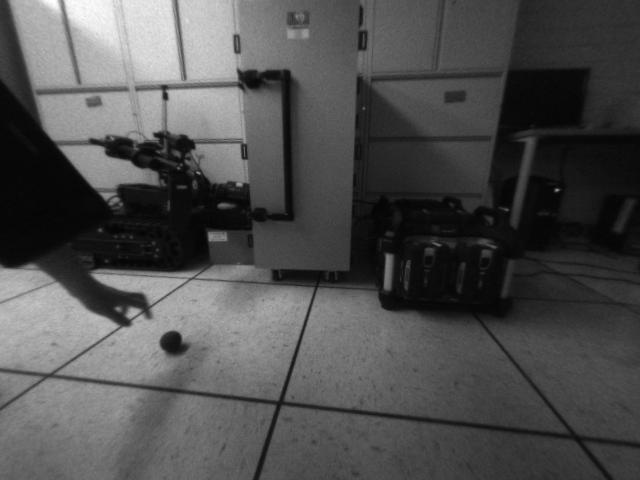dogtoy: (154, 324, 189, 357)
